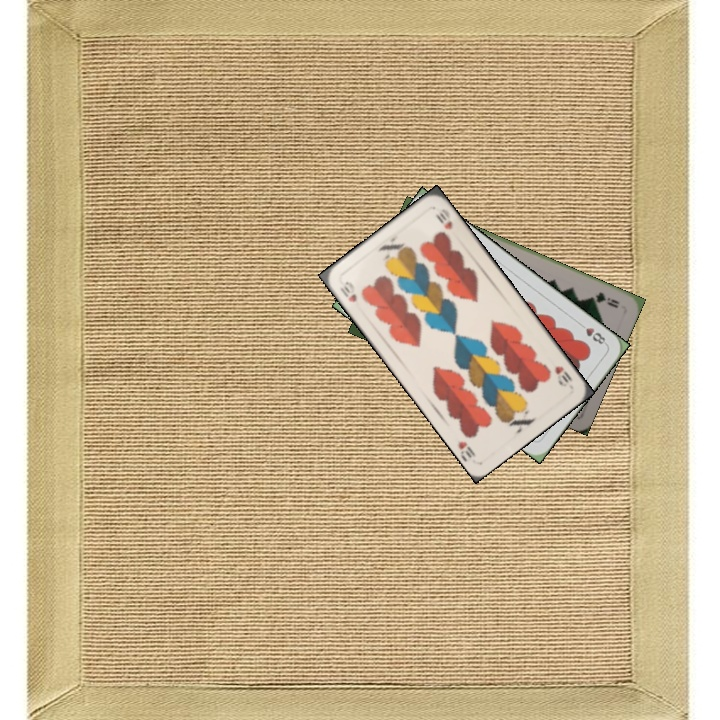G9: (587, 288, 622, 310)
H10: (551, 362, 575, 389), (336, 277, 359, 305)
H8: (574, 319, 609, 347)
